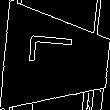L_E: (29, 42, 84, 77)
